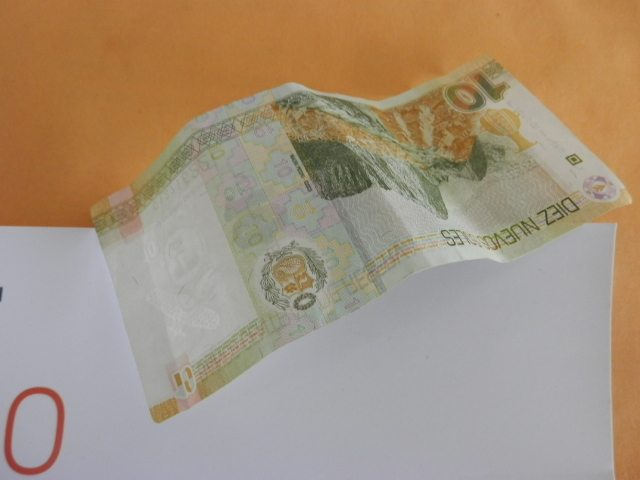B10: (93, 64, 623, 412)
